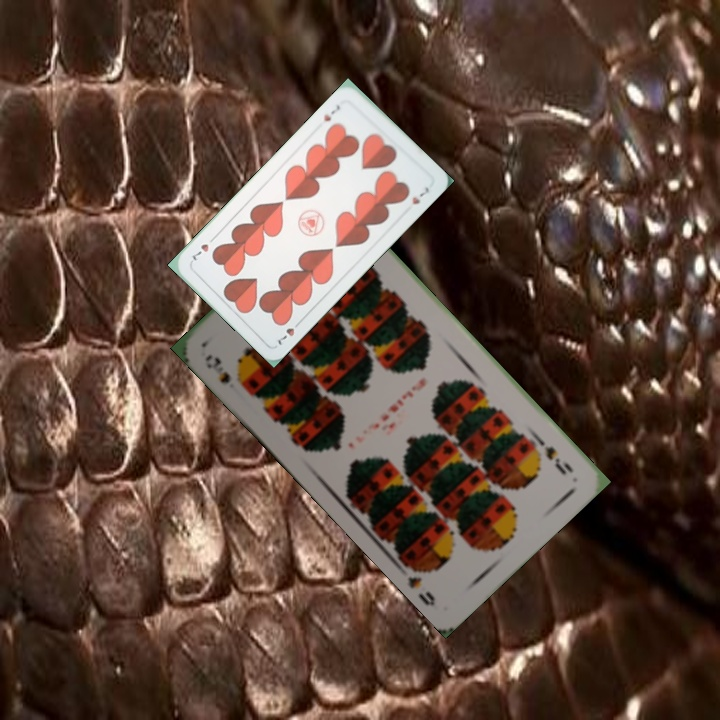H7: (273, 316, 304, 348), (320, 100, 343, 124)
S9: (200, 349, 249, 392), (540, 441, 576, 478)
